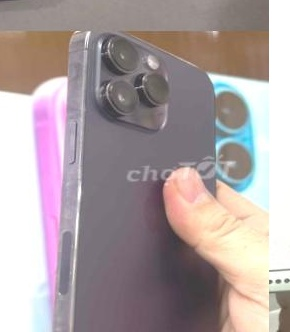scratch: (46, 151, 95, 235), (35, 259, 89, 332)
